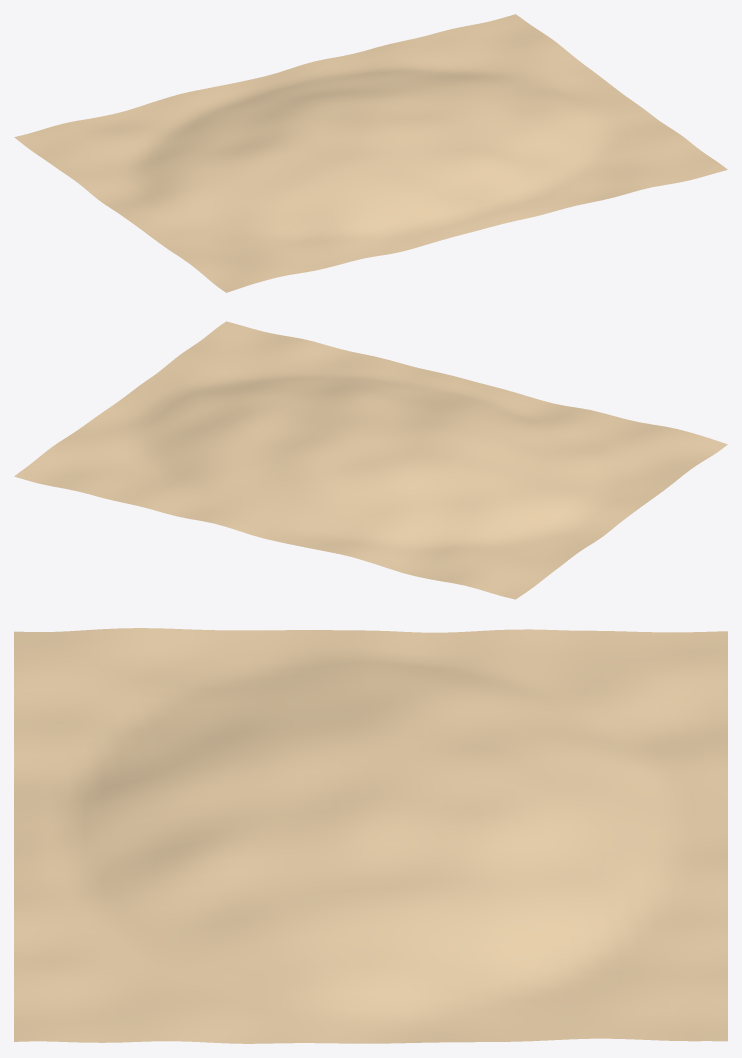
Rendered from SM_VFX_SandTrap.fbx.
3 renders of one model, top to bottom at view 1: azimuth 30°, elevation 25°; view 2: azimuth 150°, elevation 25°; view 3: azimuth 270°, elevation 25°, orthographic. The views are drawn at different scales.
Parts seen in each view (by area): view 1: SM_VFX_SandTrap; view 2: SM_VFX_SandTrap; view 3: SM_VFX_SandTrap.
Part boxes in pixels (left/top/right/bottom): SM_VFX_SandTrap: left=14, top=14, right=727, bottom=292; SM_VFX_SandTrap: left=14, top=321, right=727, bottom=599; SM_VFX_SandTrap: left=14, top=628, right=727, bottom=1043.
Size of the model in its own units: 600 by 28.41 by 440.
